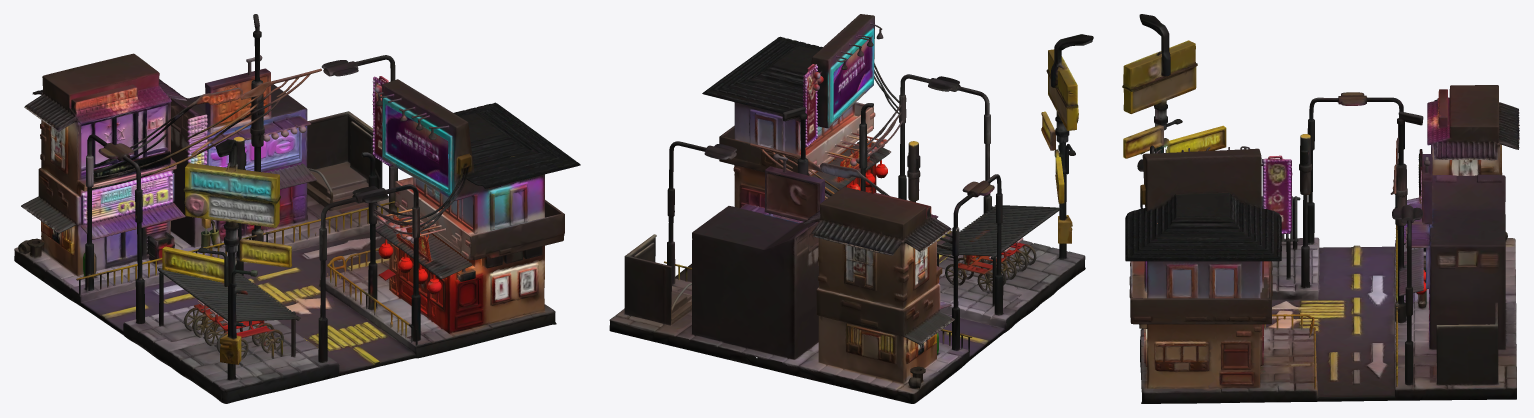
Rendered from neon-street-lite.glb.
3 renders of one model, left to right at view 1: azimuth 30°, elevation 25°; view 2: azimuth 150°, elevation 25°; view 3: azimuth 270°, elevation 25°, orthographic. The views are drawn at different scales.
Parts seen in each view (by area): view 1: tripo_node_7a8693c9-71f4-4cc8-aabe-4326f470b92d; view 2: tripo_node_7a8693c9-71f4-4cc8-aabe-4326f470b92d; view 3: tripo_node_7a8693c9-71f4-4cc8-aabe-4326f470b92d.
Boxes of the visible parts, x1,y1,x2,y2 form: tripo_node_7a8693c9-71f4-4cc8-aabe-4326f470b92d: (14,14,580,403); tripo_node_7a8693c9-71f4-4cc8-aabe-4326f470b92d: (609,14,1093,403); tripo_node_7a8693c9-71f4-4cc8-aabe-4326f470b92d: (1122,14,1519,403).
Size of the model in its own units: 0.97 by 0.6472 by 0.9826.
Materials: 1 (1 with a texture image).
